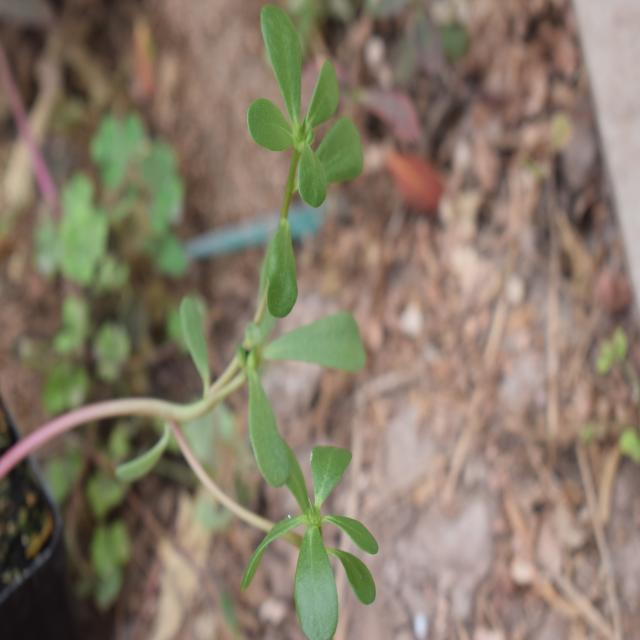purslane: (174, 15, 392, 621)
